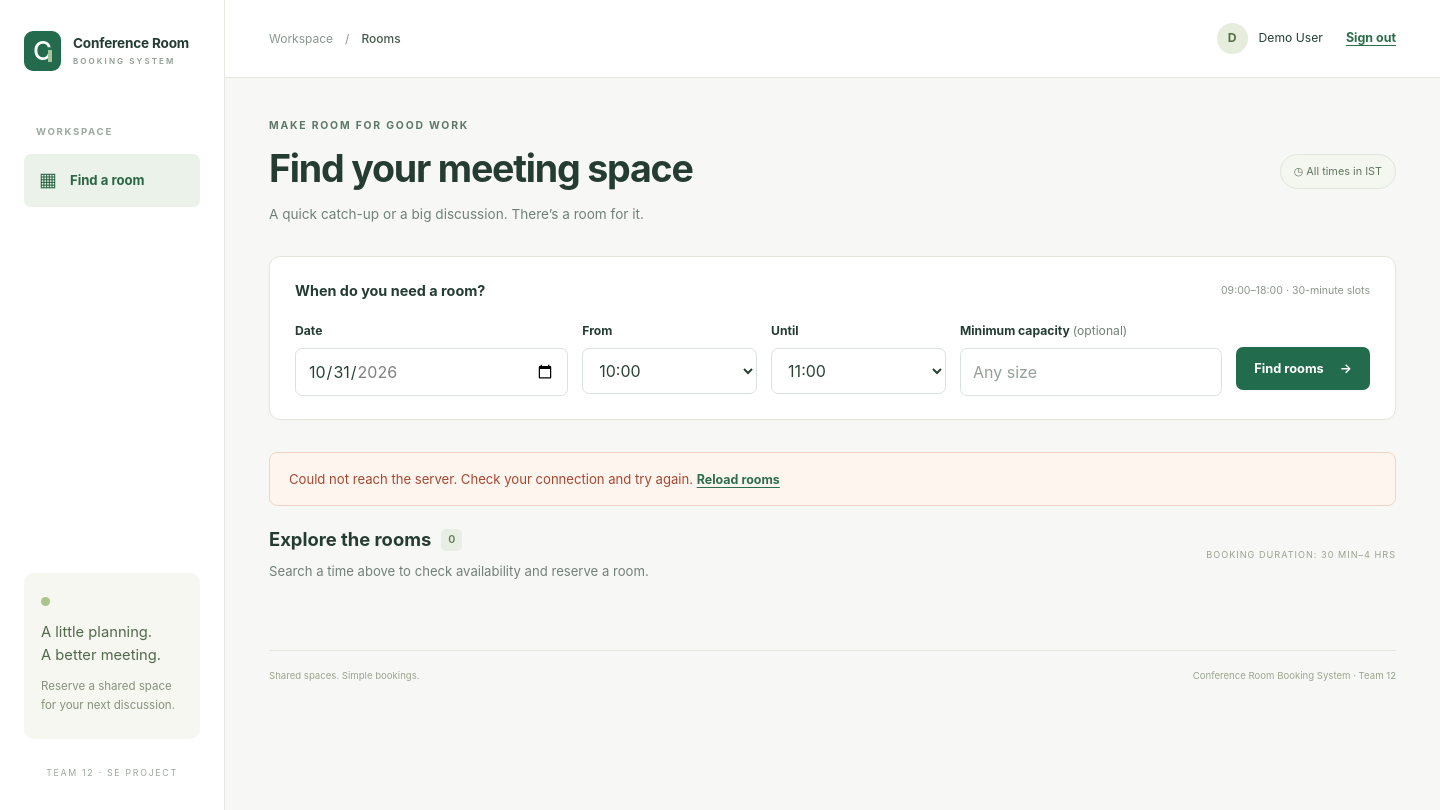
Test: TC01 / TC02 room listing and search › offers retry after a room-list network failure
Expected: the message "Could not reach the server. Check your connection and try again. Reload rooms" is shown, [269,452,1396,506]
What coordinates should you click on to do the following:
click the button "Reload rooms"
I would click on:
 (738, 480)
Its box is [697,469,780,490].
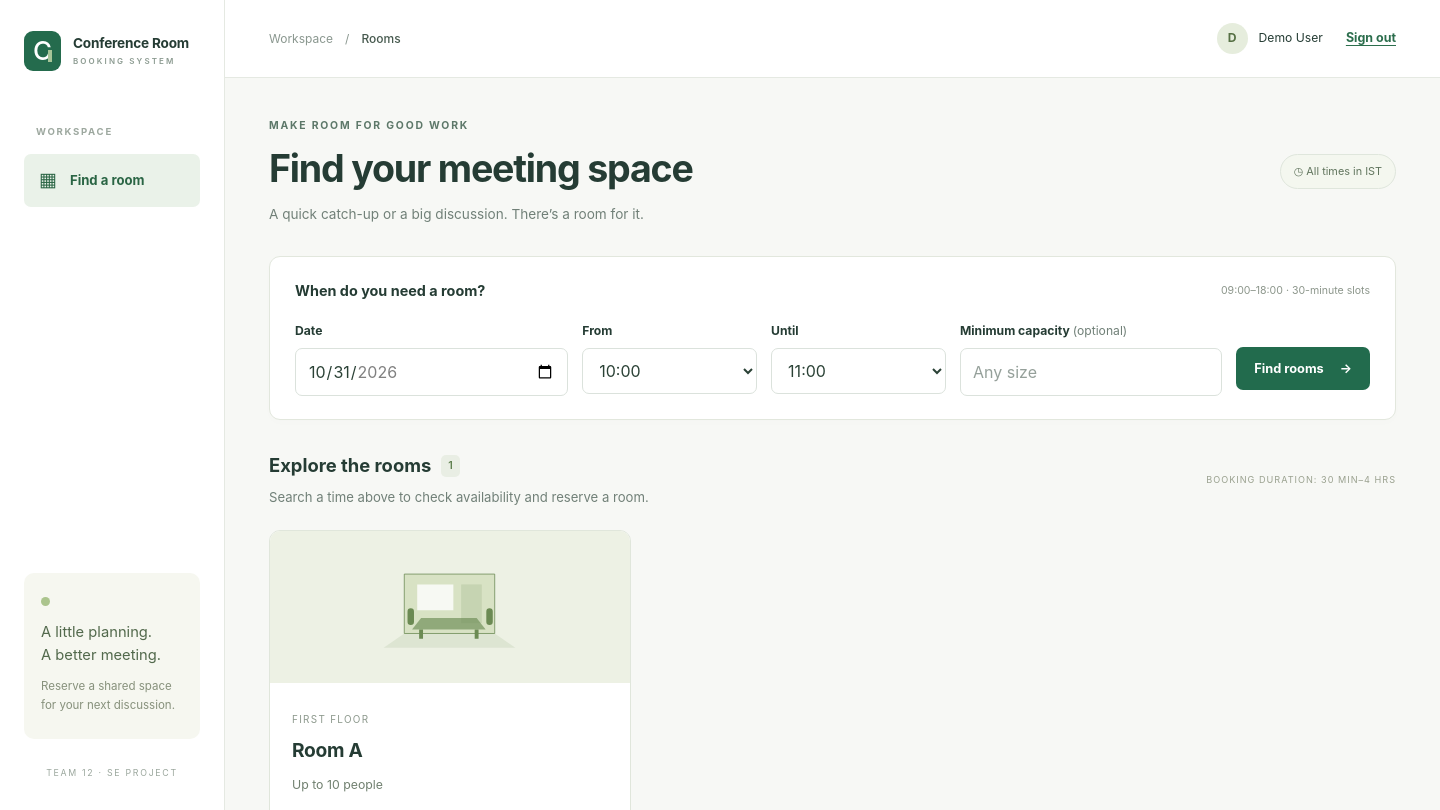
Expected: the heading "Room A" is shown, [292,738,362,762]
